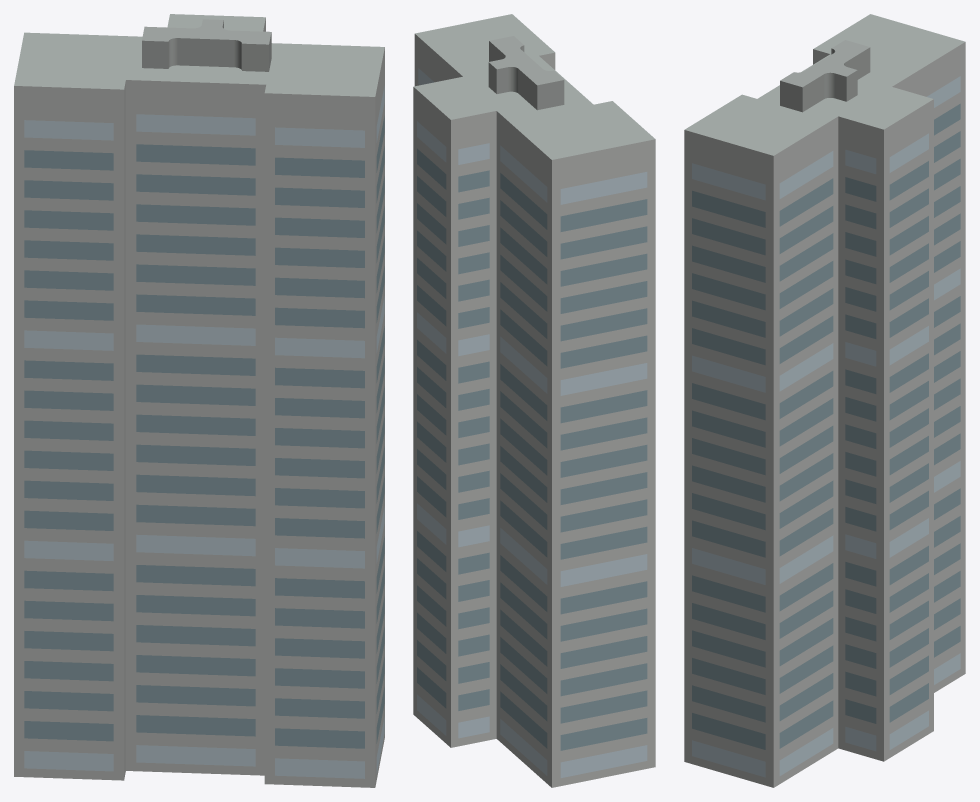
File: fallback-lake-palace-122.glb
The picture shows the model from 3 angles, left to right: view 1: azimuth 30°, elevation 25°; view 2: azimuth 150°, elevation 25°; view 3: azimuth 270°, elevation 25°; orthographic projection. The views are drawn at different scales.
Visible parts, largest first — view 1: fallback-lake-palace-122; view 2: fallback-lake-palace-122; view 3: fallback-lake-palace-122.
Boxes of the visible parts, x1,y1,x2,y2 form: fallback-lake-palace-122: (14,14,384,787); fallback-lake-palace-122: (413,14,655,787); fallback-lake-palace-122: (684,14,965,787).
Bounding box in the file's own units: 29.18 × 63 × 24.45.
